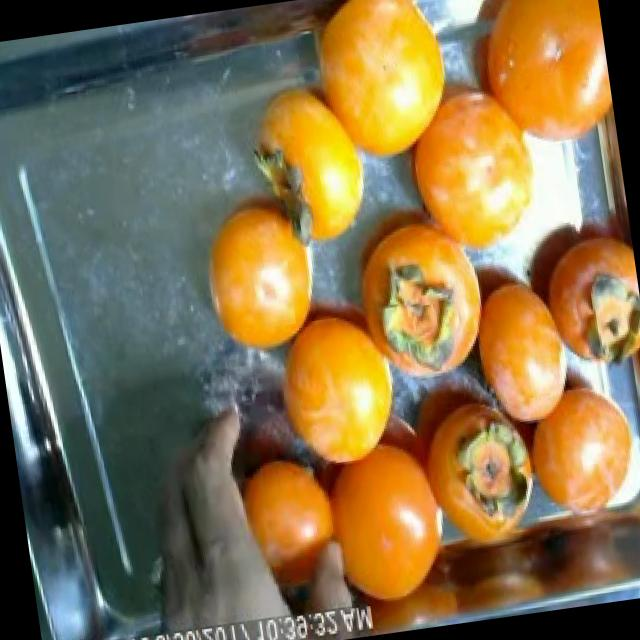Fruit: (285, 0, 474, 191), (498, 349, 640, 540), (182, 182, 323, 374)
